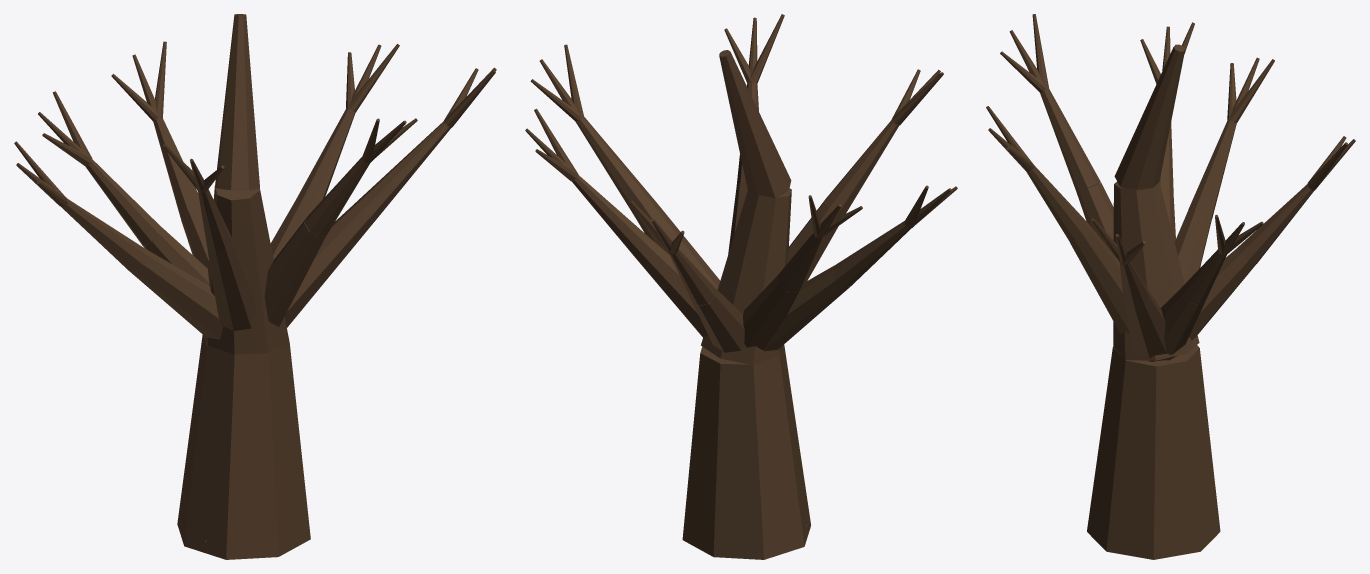
Rendered from apple_mature_winter_2.glb.
3 renders of one model, left to right at view 1: azimuth 30°, elevation 25°; view 2: azimuth 150°, elevation 25°; view 3: azimuth 270°, elevation 25°, orthographic. The views are drawn at different scales.
Visible parts, largest first — view 1: apple_mature_winter_2; view 2: apple_mature_winter_2; view 3: apple_mature_winter_2.
Part boxes in pixels (bbox=[...]): apple_mature_winter_2: bbox=[14, 14, 496, 559]; apple_mature_winter_2: bbox=[525, 14, 957, 559]; apple_mature_winter_2: bbox=[986, 14, 1355, 559].
Bounding box in the file's own units: 10.6 × 11.32 × 7.75.
